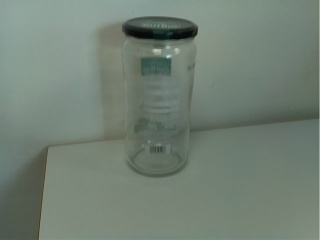pote cristal: (118, 15, 201, 182)
